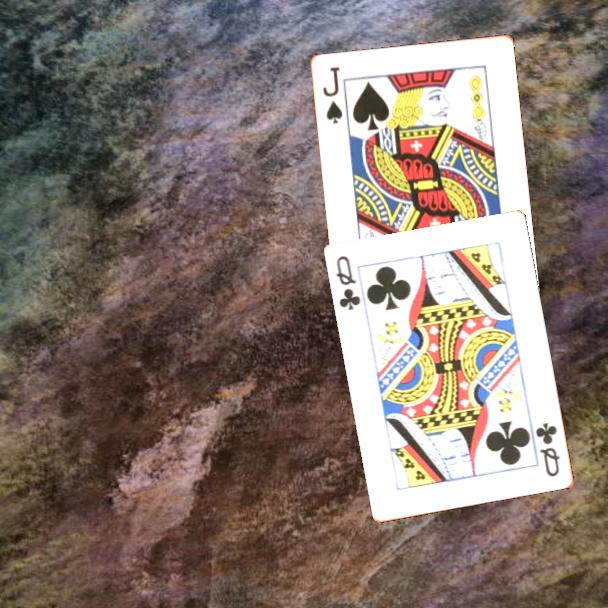c12: (532, 419, 563, 480), (333, 252, 364, 313)
s11: (319, 63, 345, 127)
